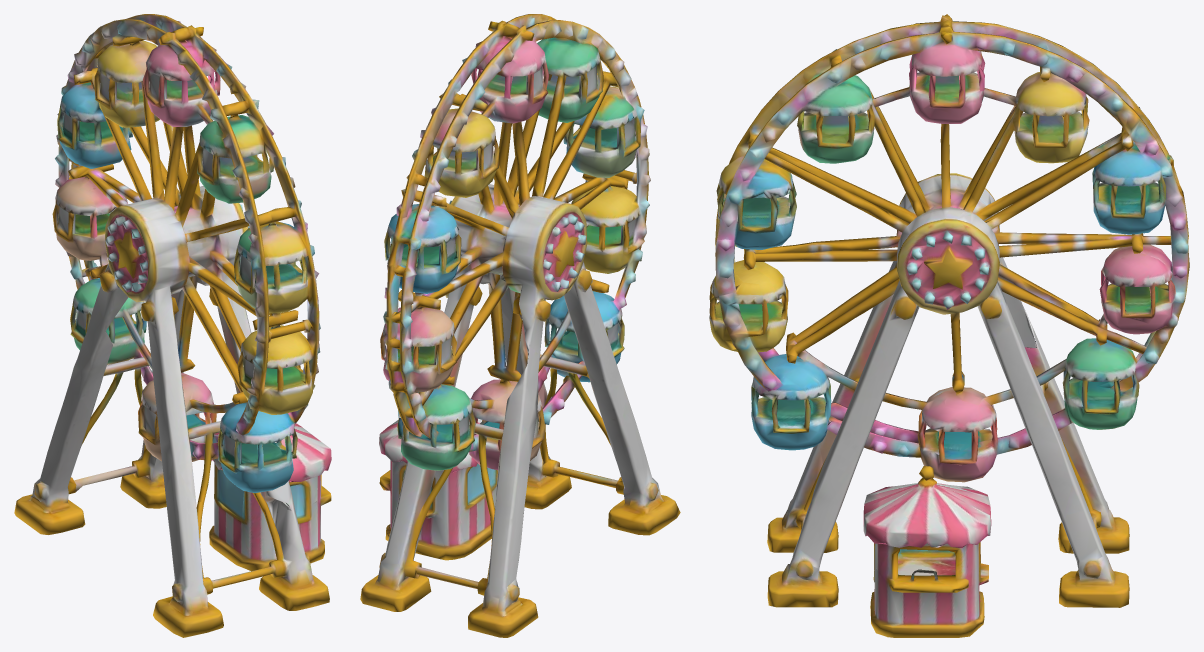
The model's file is ferris-wheel.glb.
3 renders of one model, left to right at view 1: azimuth 30°, elevation 25°; view 2: azimuth 150°, elevation 25°; view 3: azimuth 270°, elevation 25°, orthographic. The views are drawn at different scales.
Visible parts, largest first — view 1: tripo_node_8a2b92da-6a7f-4ace-9459-224a3cd80d71; view 2: tripo_node_8a2b92da-6a7f-4ace-9459-224a3cd80d71; view 3: tripo_node_8a2b92da-6a7f-4ace-9459-224a3cd80d71.
Part boxes in pixels (x1=…): tripo_node_8a2b92da-6a7f-4ace-9459-224a3cd80d71: x1=14, y1=14, x2=331, y2=637; tripo_node_8a2b92da-6a7f-4ace-9459-224a3cd80d71: x1=360, y1=14, x2=680, y2=637; tripo_node_8a2b92da-6a7f-4ace-9459-224a3cd80d71: x1=709, y1=14, x2=1189, y2=637.
Size of the model in its own units: 0.4196 by 1 by 0.7819.
Materials: 1 (1 with a texture image).
